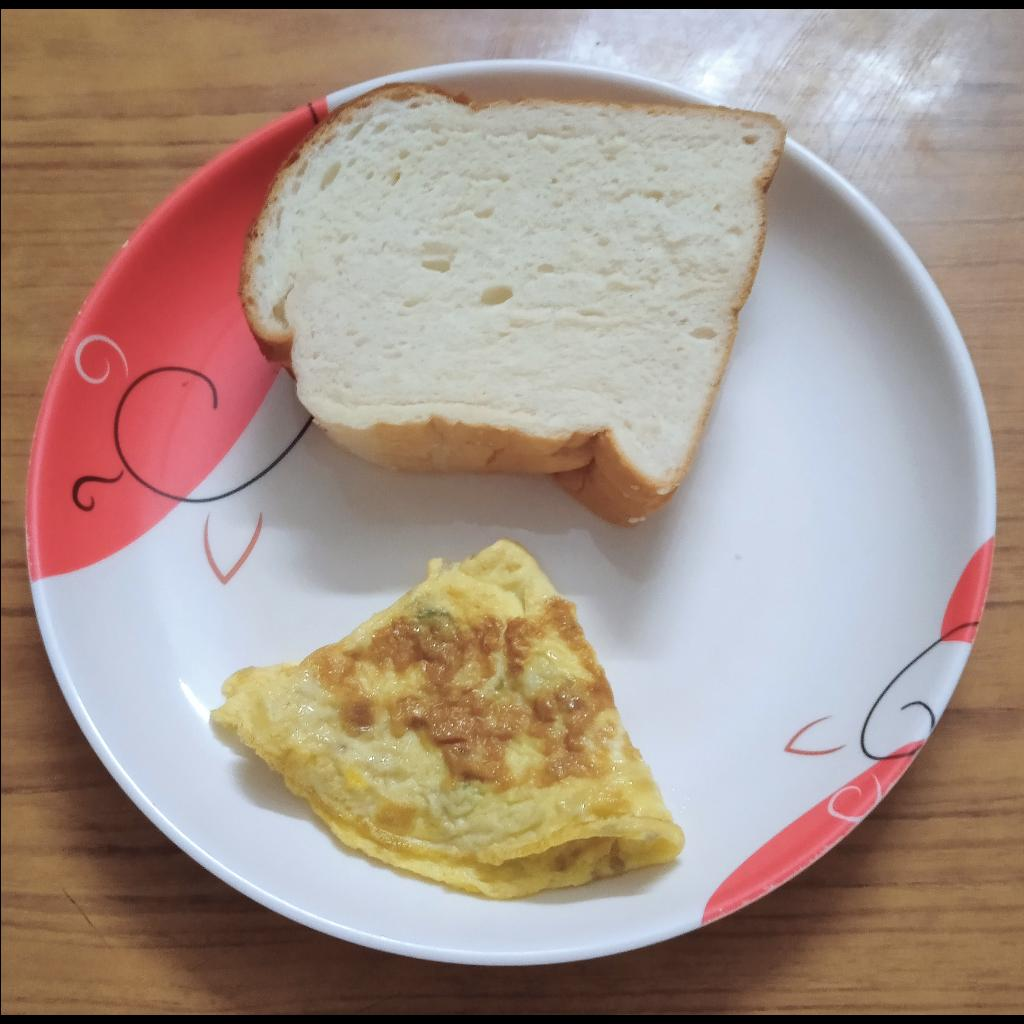bread: (241, 82, 786, 534)
egg-poached: (205, 534, 682, 899)
